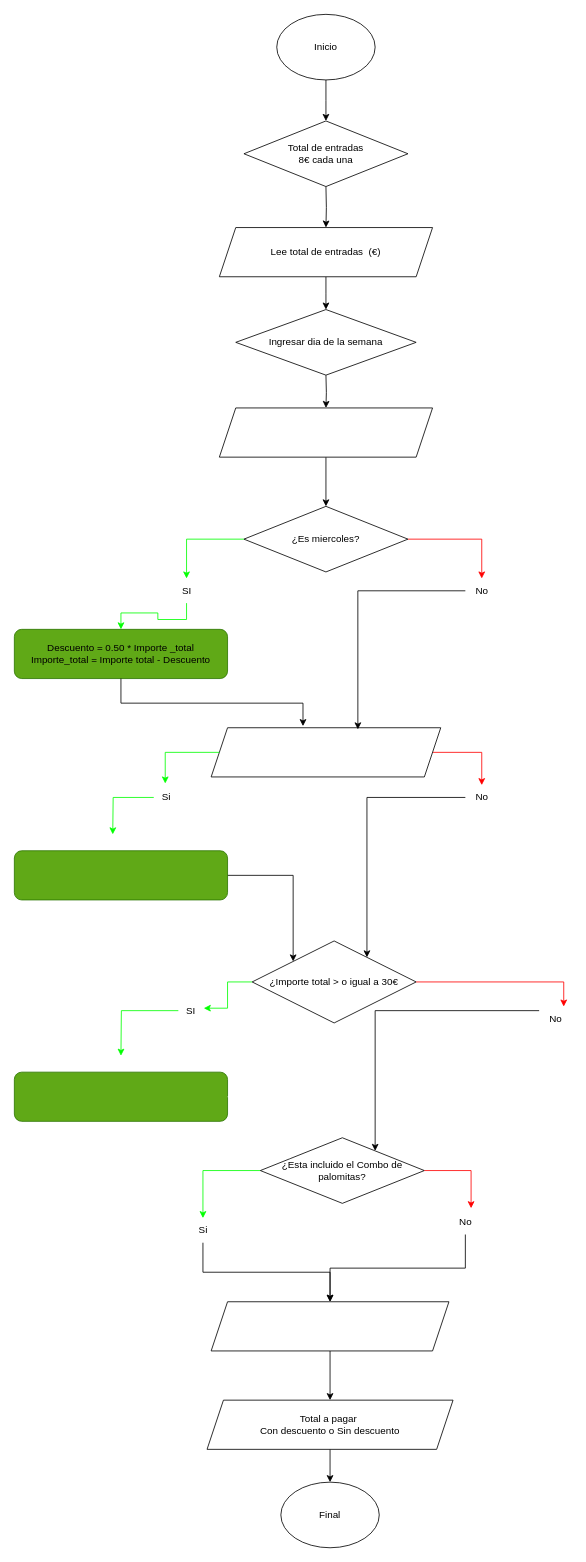
Image size: 586x1562. Some labels were removed from this diagram. The centre of each missing label's shape, as x and y in pixels:
Descuento aplicado: [329,1326]
Descuento= 0.20 * Importe_total Importe_total - Descuento: [121,875]
Leer que dia de la semana es L / M/MI/J/V/S/D: [326,432]
Regalo combo palomitas: [121,1096]
¿Tarjeta de Estudiante?: [325,752]
